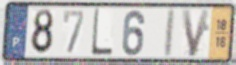6: (121, 8, 146, 58)
7: (62, 9, 86, 56)
8: (28, 8, 54, 57)
I: (162, 7, 178, 60)
L: (90, 7, 114, 58)
V: (180, 8, 212, 59)
